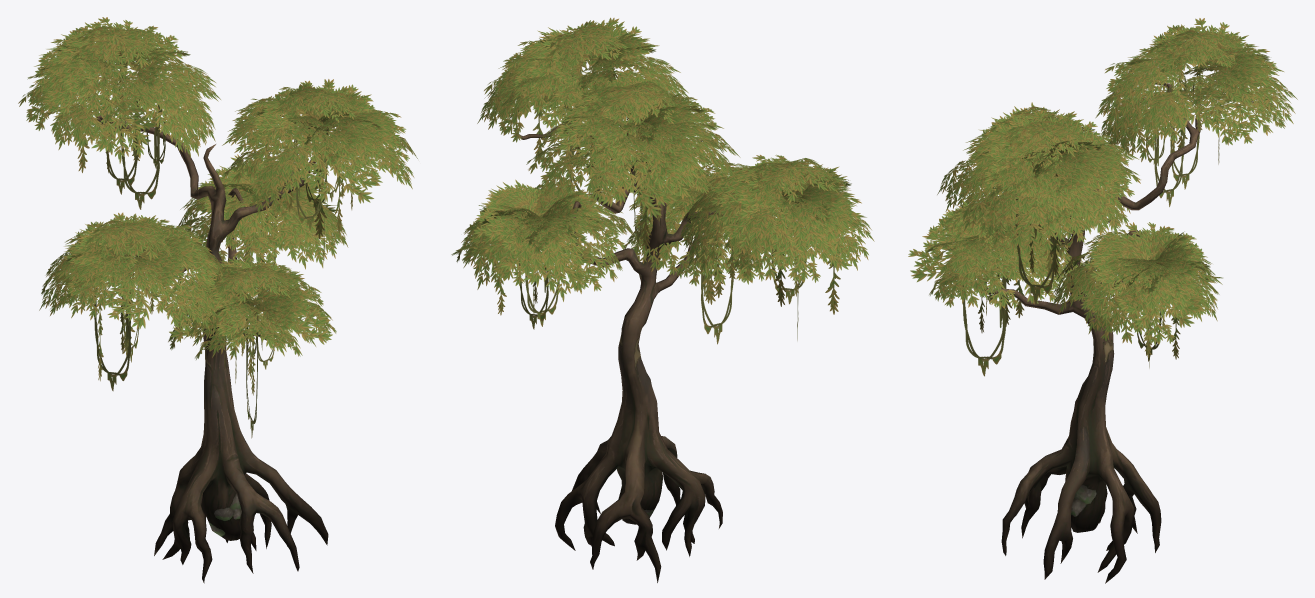
File: tree-swamp_tree_small.glb
3 views of the same model, side by side, from view 1: azimuth 30°, elevation 25°; view 2: azimuth 150°, elevation 25°; view 3: azimuth 270°, elevation 25° (orthographic). The views are drawn at different scales.
Visible parts, largest first — view 1: Swamp_Tree_Small.dmx-static; view 2: Swamp_Tree_Small.dmx-static; view 3: Swamp_Tree_Small.dmx-static.
Part boxes in pixels (left/top/right/bottom): Swamp_Tree_Small.dmx-static: left=18, top=17, right=417, bottom=583; Swamp_Tree_Small.dmx-static: left=451, top=17, right=874, bottom=582; Swamp_Tree_Small.dmx-static: left=908, top=18, right=1297, bottom=583.
Size of the model in its own units: 11.06 by 14.51 by 10.42.
2 materials, 2 textured.
